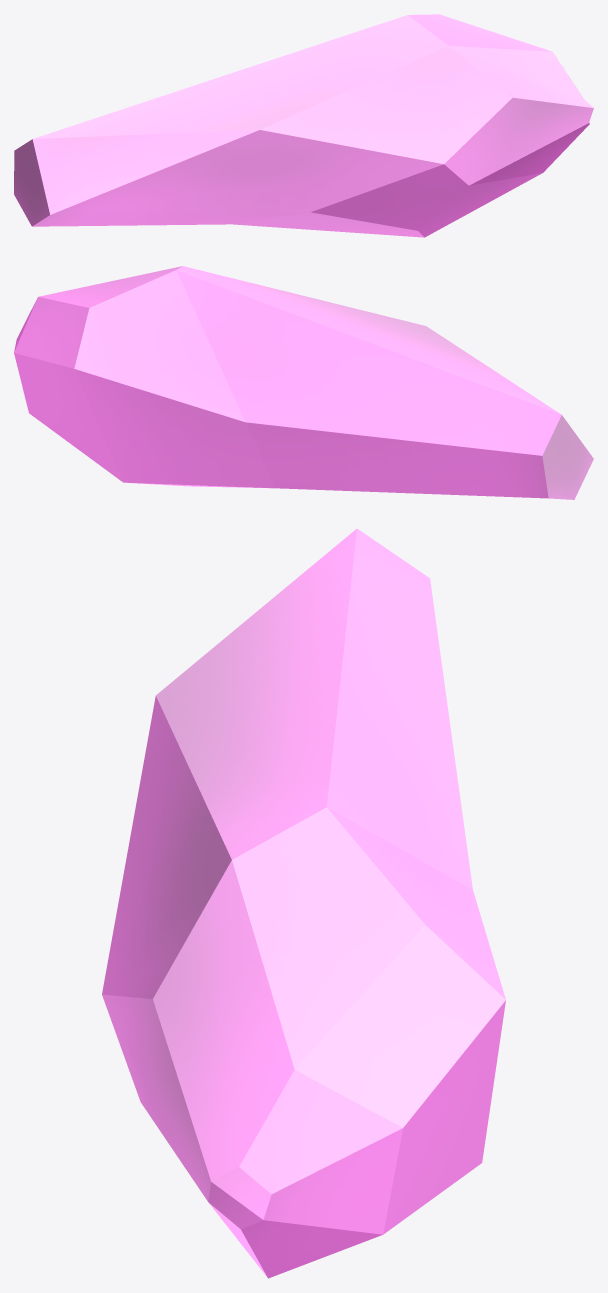
Rendered from Cristal_gem.008.fbx.
The picture shows the model from 3 angles, top to bottom: view 1: azimuth 30°, elevation 25°; view 2: azimuth 150°, elevation 25°; view 3: azimuth 270°, elevation 25°; orthographic projection. The views are drawn at different scales.
Parts seen in each view (by area): view 1: Crystal_gem.008; view 2: Crystal_gem.008; view 3: Crystal_gem.008.
Boxes of the visible parts, x1,y1,x2,y2 form: Crystal_gem.008: [14, 14, 593, 237]; Crystal_gem.008: [14, 266, 593, 499]; Crystal_gem.008: [102, 528, 505, 1278].
Bounding box in the file's own units: 274 × 104 × 89.45.
